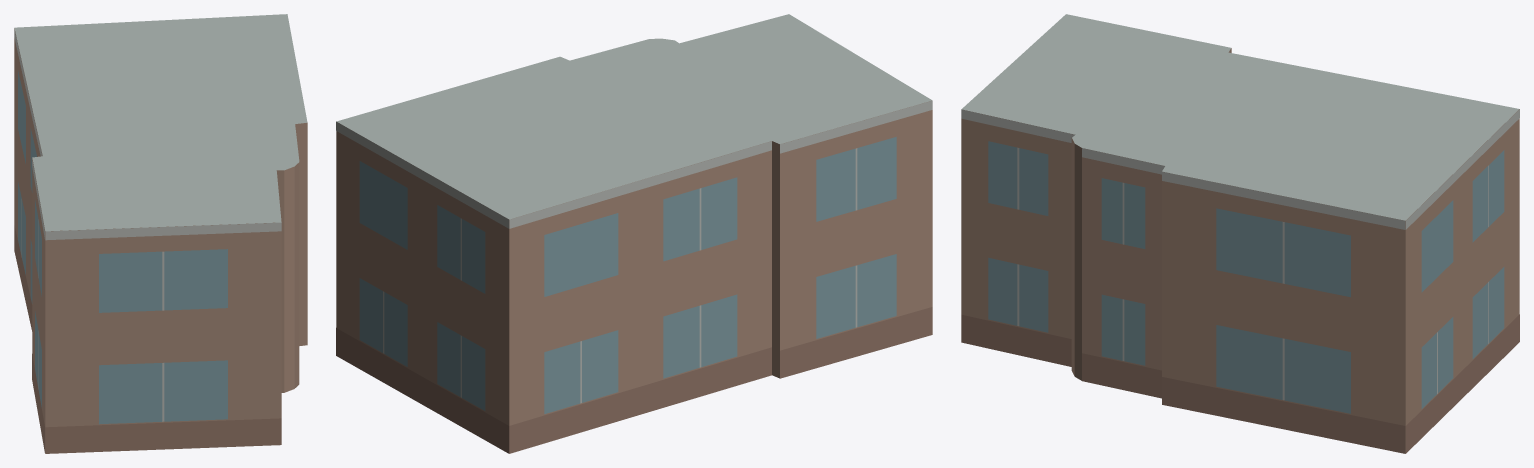
File: survey-upis-32658387.glb
The picture shows the model from 3 angles, left to right: view 1: azimuth 30°, elevation 25°; view 2: azimuth 150°, elevation 25°; view 3: azimuth 270°, elevation 25°; orthographic projection. The views are drawn at different scales.
Parts seen in each view (by area): view 1: survey-upis-32658387.tmp; view 2: survey-upis-32658387.tmp; view 3: survey-upis-32658387.tmp.
Part boxes in pixels (x1,y1,x2,y2): survey-upis-32658387.tmp: [14, 14, 307, 453]; survey-upis-32658387.tmp: [336, 14, 932, 453]; survey-upis-32658387.tmp: [961, 14, 1519, 453].
Bounding box in the file's own units: 11.61 × 6.1 × 13.25.
